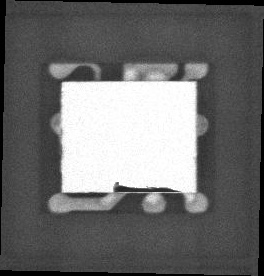DIE_BROKEN: (111, 180, 179, 194)
